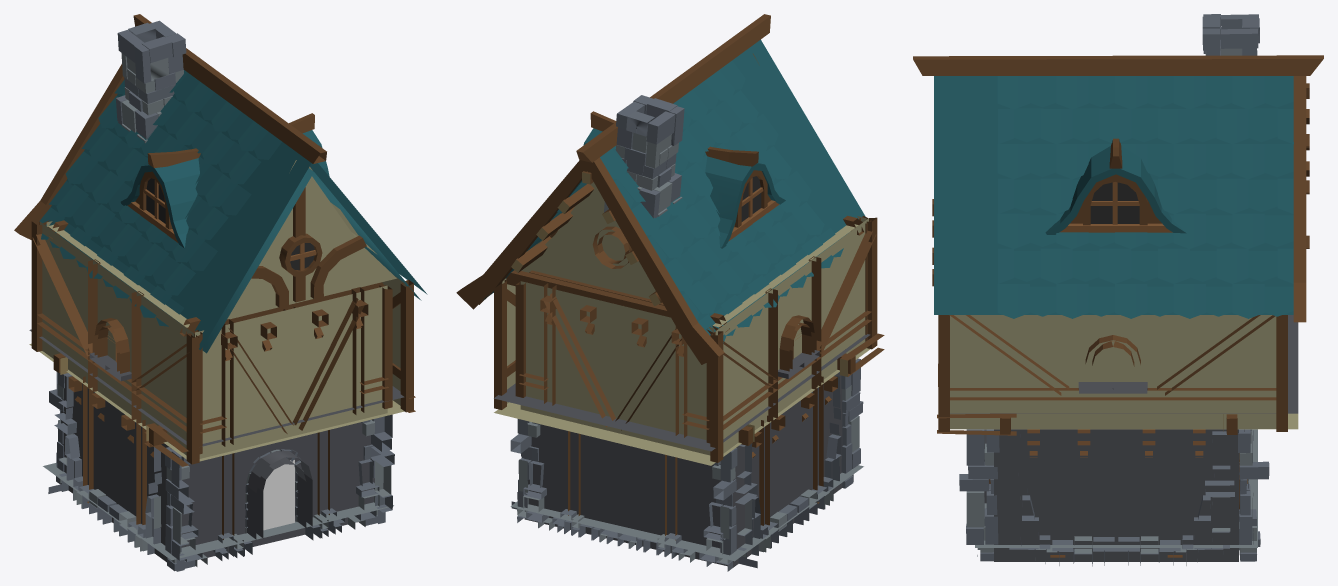
File: AlbyHouseInside2.glb
The picture shows the model from 3 angles, left to right: view 1: azimuth 30°, elevation 25°; view 2: azimuth 150°, elevation 25°; view 3: azimuth 270°, elevation 25°; orthographic projection. The views are drawn at different scales.
Parts seen in each view (by area): view 1: House_1_Cube.011, House_1_Cube.005, House_1_Cube.001, House_1_Cube.006, House_1_Cube.004, House_1_Cube.010, House_1_Cube.007, Floor_second, Floor_first, TransferArea_MainWorld, Floor_attic, House_1_Cube.002; view 2: House_1_Cube.011, House_1_Cube.008, House_1_Cube.002, House_1_Cube.006, House_1_Cube.004, House_1_Cube.009, Floor_second, House_1_Cube.001, House_1_Cube.007, Floor_first, Floor_attic; view 3: House_1_Cube.011, House_1_Cube.007, House_1_Cube.003, House_1_Cube.001, House_1_Cube.002, Floor_second, Floor_first.
Part boxes in pixels (x1=…): House_1_Cube.011: x1=14, y1=14, x2=427, y2=353; House_1_Cube.005: x1=179, y1=282, x2=392, y2=458; House_1_Cube.001: x1=146, y1=396, x2=415, y2=571; House_1_Cube.006: x1=31, y1=221, x2=199, y2=464; House_1_Cube.004: x1=48, y1=373, x2=168, y2=562; House_1_Cube.010: x1=227, y1=160, x2=396, y2=319; House_1_Cube.007: x1=382, y1=276, x2=413, y2=412; Floor_second: x1=29, y1=329, x2=404, y2=461; Floor_first: x1=43, y1=463, x2=393, y2=560; TransferArea_MainWorld: x1=263, y1=460, x2=294, y2=530; Floor_attic: x1=48, y1=224, x2=189, y2=327; House_1_Cube.002: x1=49, y1=353, x2=67, y2=484; House_1_Cube.011: x1=456, y1=14, x2=865, y2=364; House_1_Cube.008: x1=515, y1=270, x2=729, y2=455; House_1_Cube.002: x1=510, y1=419, x2=754, y2=571; House_1_Cube.006: x1=710, y1=217, x2=877, y2=462; House_1_Cube.004: x1=733, y1=372, x2=843, y2=568; House_1_Cube.009: x1=521, y1=182, x2=655, y2=298; Floor_second: x1=494, y1=334, x2=870, y2=465; House_1_Cube.001: x1=837, y1=333, x2=884, y2=488; House_1_Cube.007: x1=494, y1=278, x2=515, y2=409; Floor_first: x1=510, y1=465, x2=863, y2=561; Floor_attic: x1=713, y1=224, x2=858, y2=327; House_1_Cube.011: x1=913, y1=14, x2=1323, y2=322; House_1_Cube.007: x1=938, y1=315, x2=1287, y2=431; House_1_Cube.003: x1=994, y1=429, x2=1238, y2=566; House_1_Cube.001: x1=937, y1=413, x2=1016, y2=561; House_1_Cube.002: x1=1223, y1=414, x2=1269, y2=561; Floor_second: x1=950, y1=315, x2=1298, y2=429; Floor_first: x1=975, y1=429, x2=1257, y2=547.
Size of what is drawn, in the model's own units: 28.08 by 44.06 by 34.55.
